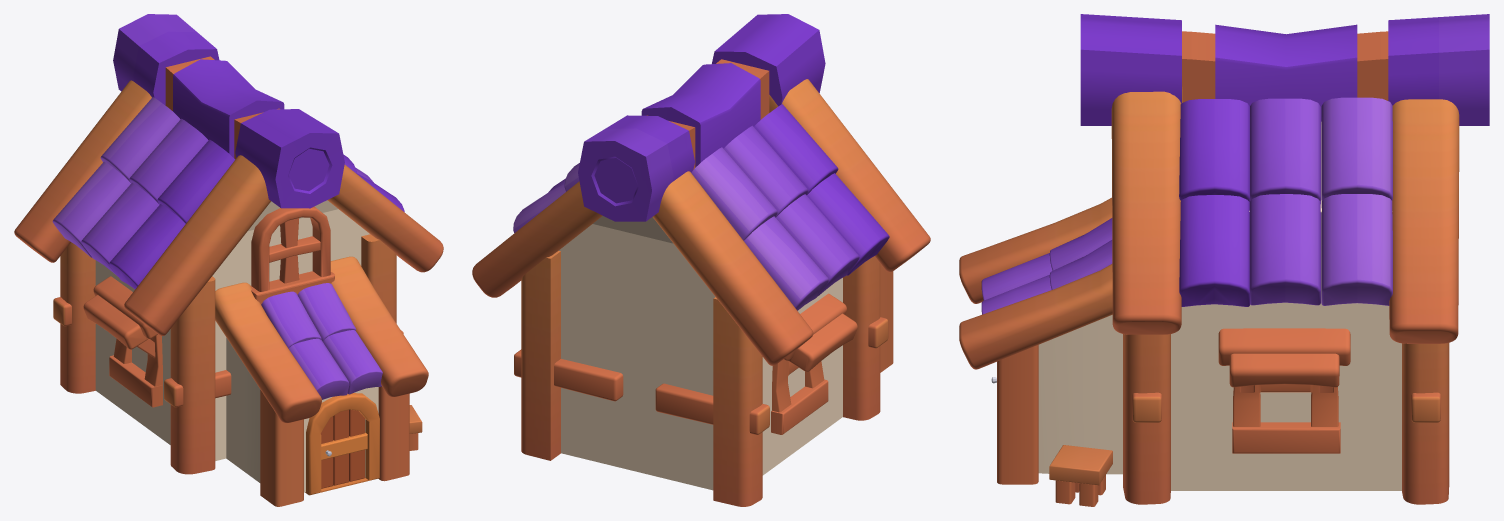
Rendered from Cute_House.fbx.
3 renders of one model, left to right at view 1: azimuth 30°, elevation 25°; view 2: azimuth 150°, elevation 25°; view 3: azimuth 270°, elevation 25°, orthographic. The views are drawn at different scales.
Parts seen in each view (by area): view 1: Cube.008, Cube.012, Cube.006, Cube.005, Cube.019, Cube.011, Cube.020, Cube.021, Cube.009, Cube, Cube.036, Plane.001 (+25 smaller); view 2: Cube.005, Cube.011, Cube.009, Cube.021, Cube.008, Cube.020, Cube.019, Cube.006, Cube.004, Cube.010, Cube.017, Cube.015 (+10 smaller); view 3: Cube.005, Cube.008, Cube.011, Cube.012, Cube, Cube.020, Cube.021, Cube.019, Cube.004, Cube.015, Cube.045, Cube.006 (+17 smaller).
Part boxes in pixels (<box>): Cube.008: <box>124,155,443,335</box>; Cube.012: <box>215,256,428,422</box>; Cube.006: <box>170,234,396,474</box>; Cube.005: <box>95,200,369,460</box>; Cube.019: <box>235,109,344,208</box>; Cube.011: <box>14,80,151,262</box>; Cube.020: <box>173,59,284,157</box>; Cube.021: <box>113,14,219,105</box>; Cube.009: <box>60,242,95,393</box>; Cube: <box>226,338,378,492</box>; Cube.036: <box>260,390,303,506</box>; Plane.001: <box>305,393,379,495</box>; Cube.005: <box>559,216,842,490</box>; Cube.011: <box>472,171,813,365</box>; Cube.009: <box>521,250,762,506</box>; Cube.021: <box>578,115,694,221</box>; Cube.008: <box>769,79,930,272</box>; Cube.020: <box>641,63,760,167</box>; Cube.019: <box>712,14,825,106</box>; Cube.006: <box>843,256,880,420</box>; Cube.004: <box>513,184,828,310</box>; Cube.010: <box>514,349,769,434</box>; Cube.017: <box>564,147,777,240</box>; Cube.015: <box>548,178,859,295</box>; Cube.005: <box>1171,122,1401,490</box>; Cube.008: <box>1111,87,1182,334</box>; Cube.011: <box>1389,99,1459,343</box>; Cube.012: <box>959,197,1112,369</box>; Cube: <box>1038,315,1122,474</box>; Cube.020: <box>1215,24,1357,121</box>; Cube.021: <box>1388,14,1489,125</box>; Cube.019: <box>1080,14,1181,125</box>; Cube.004: <box>1321,194,1392,305</box>; Cube.015: <box>1249,194,1320,305</box>; Cube.045: <box>1179,195,1249,306</box>; Cube.006: <box>1123,334,1170,504</box>.
Size of the model in its own units: 1823 by 1929 by 2204.
Materials: 1 (1 with a texture image).
